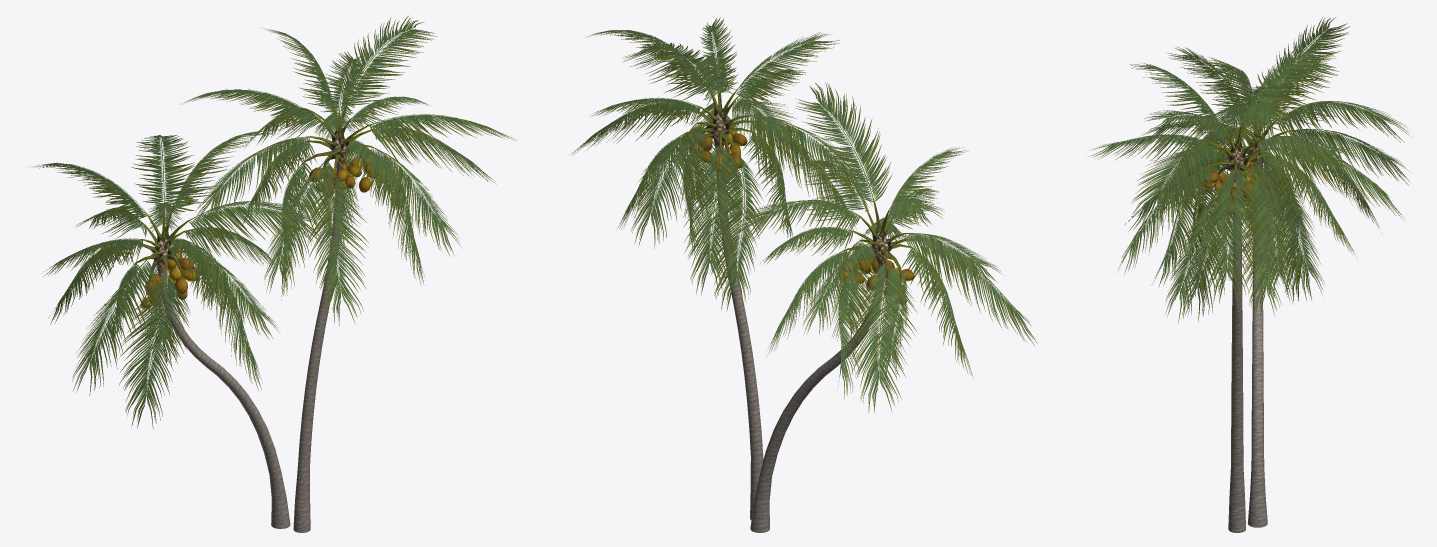
Rendered from palm.glb.
3 renders of one model, left to right at view 1: azimuth 30°, elevation 25°; view 2: azimuth 150°, elevation 25°; view 3: azimuth 270°, elevation 25°, orthographic. The views are drawn at different scales.
Visible parts, largest first — view 1: Tree_2, Tree_0, Tree_3, Tree_4; view 2: Tree_2, Tree_0, Tree_3, Tree_4, Tree_1; view 3: Tree_2, Tree_0, Tree_3, Tree_4.
Boxes of the visible parts, left/top/right/bottom form: Tree_2: left=29, top=15, right=515, bottom=429; Tree_0: left=158, top=170, right=343, bottom=532; Tree_3: left=132, top=98, right=378, bottom=295; Tree_4: left=140, top=154, right=375, bottom=308; Tree_2: left=569, top=17, right=1037, bottom=413; Tree_0: left=716, top=152, right=885, bottom=532; Tree_3: left=679, top=82, right=917, bottom=291; Tree_4: left=685, top=126, right=914, bottom=304; Tree_1: left=712, top=112, right=888, bottom=269; Tree_2: left=1089, top=17, right=1410, bottom=323; Tree_0: left=1228, top=201, right=1267, bottom=532; Tree_3: left=1204, top=117, right=1296, bottom=202; Tree_4: left=1202, top=162, right=1283, bottom=217.
Bounding box in the file's own units: 6.3 × 6.28 × 4.02.
5 materials, 5 textured.
